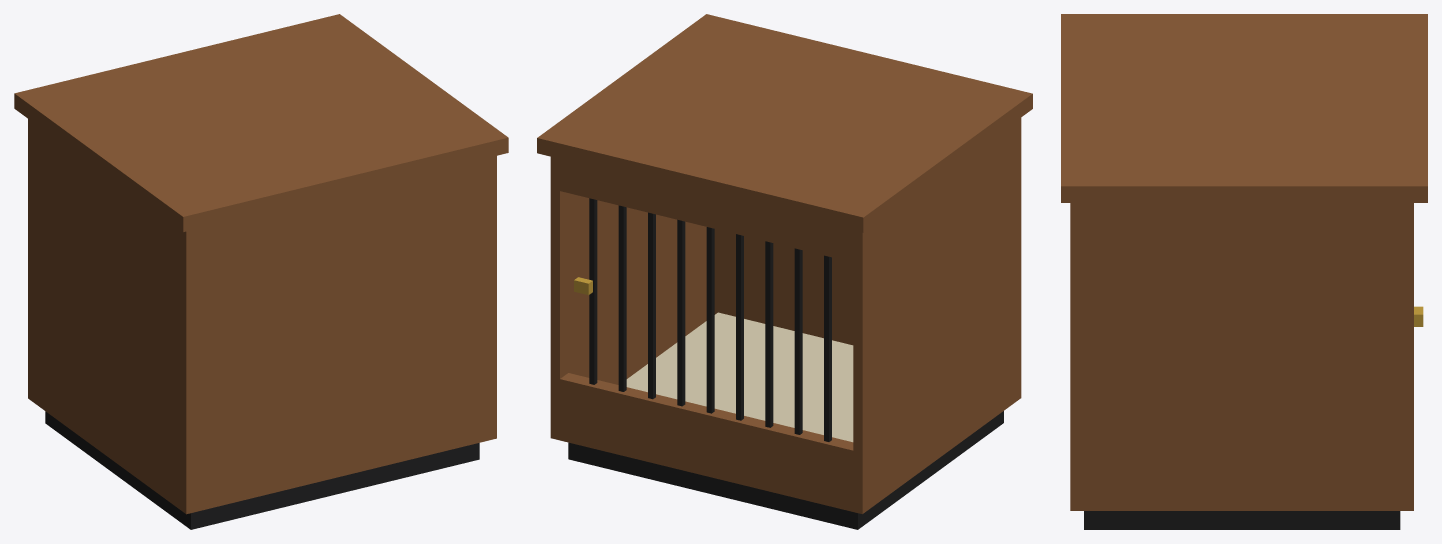
File: parametric-kennel-crew.glb
3 renders of one model, left to right at view 1: azimuth 30°, elevation 25°; view 2: azimuth 150°, elevation 25°; view 3: azimuth 270°, elevation 25°, orthographic. The views are drawn at different scales.
Visible parts, largest first — view 1: parametric-kennel-crew; view 2: parametric-kennel-crew; view 3: parametric-kennel-crew.
Boxes of the visible parts, bbox=[...] form: parametric-kennel-crew: bbox=[14, 14, 508, 529]; parametric-kennel-crew: bbox=[537, 14, 1032, 529]; parametric-kennel-crew: bbox=[1061, 14, 1427, 529].
Bounding box in the file's own units: 0.89 × 0.85 × 0.8.
